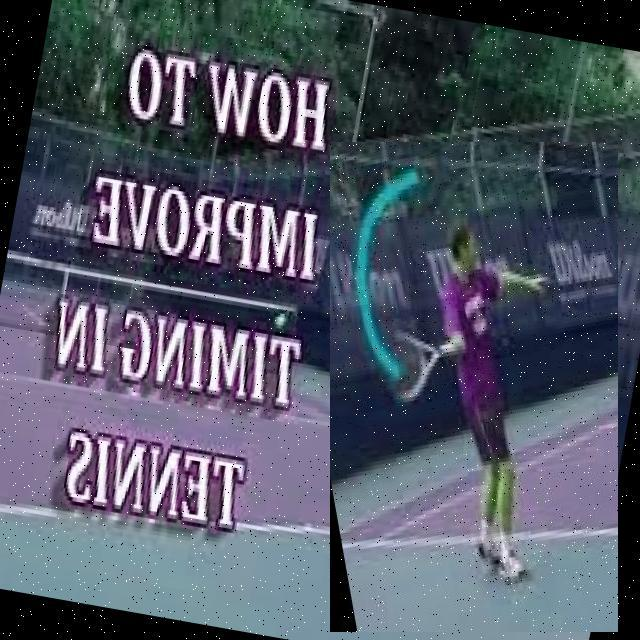player: (330, 142, 618, 632)
